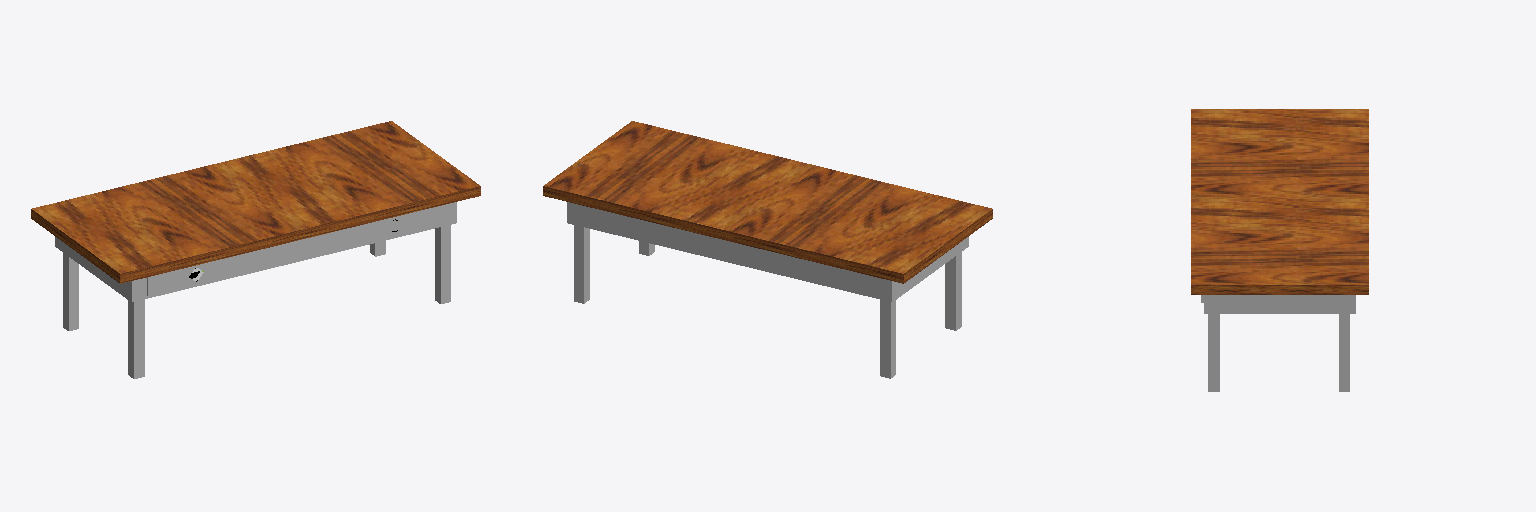
3 views of the same model, side by side, from view 1: azimuth 30°, elevation 25°; view 2: azimuth 150°, elevation 25°; view 3: azimuth 270°, elevation 25° (orthographic).
Parts seen in each view (by area): view 1: Cube; view 2: Cube; view 3: Cube.
Boxes of the visible parts, box(x1,y1,x2,y2) form: Cube: box(31, 121, 480, 378); Cube: box(543, 121, 992, 378); Cube: box(1191, 109, 1368, 391).
Bounding box in the file's own units: 3.2 × 0.9943 × 1.37.
3 materials, 2 textured.